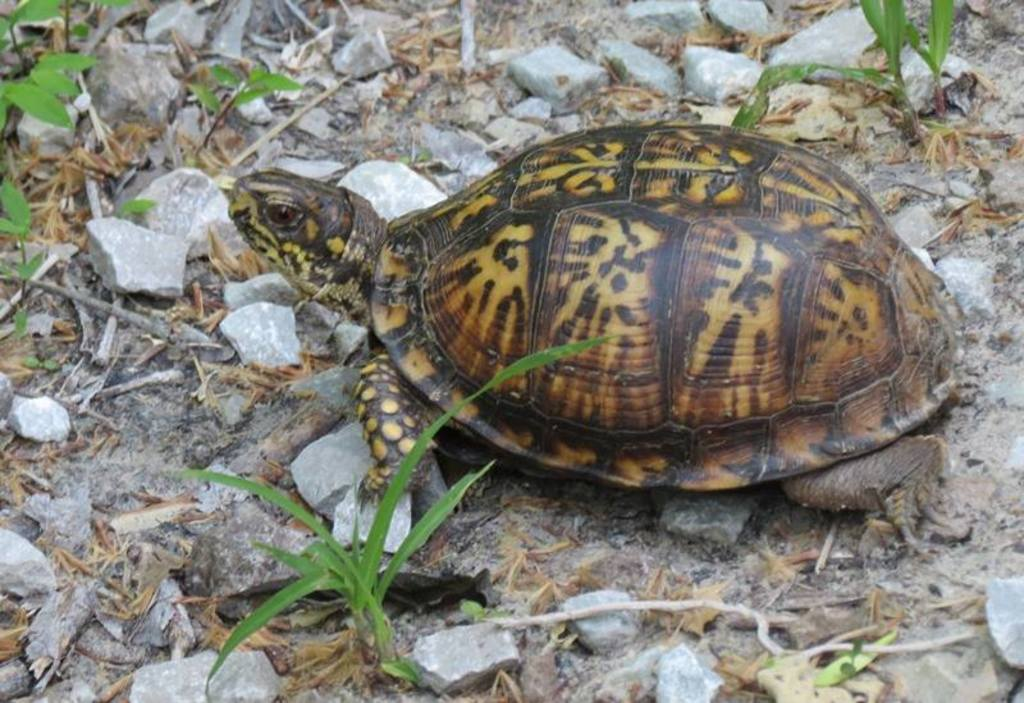Sea turtles: (229, 122, 977, 527)
